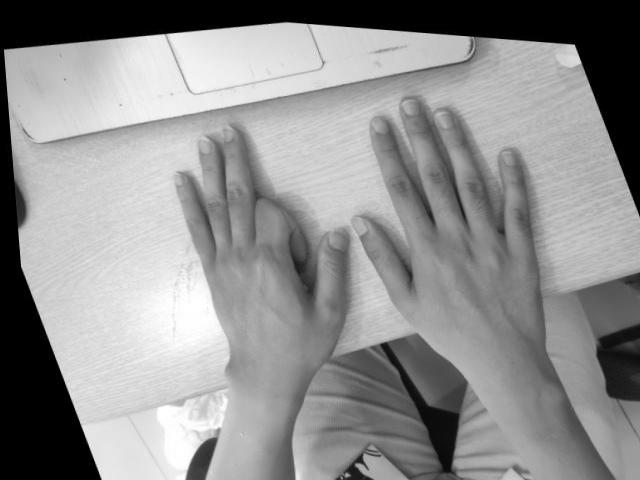not-gloved: (354, 100, 550, 348), (171, 130, 351, 361)
